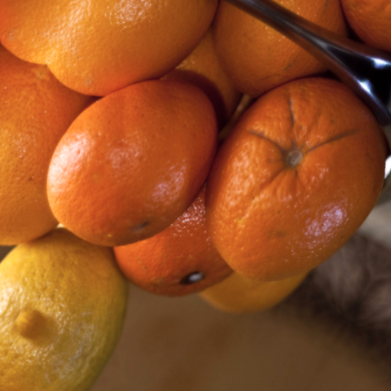orange: (0, 32, 262, 318), (163, 31, 391, 325)
